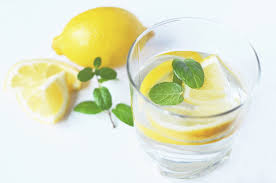Lemon: (53, 3, 161, 78)
